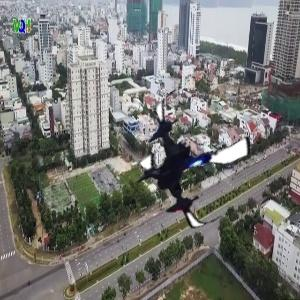drone: (122, 87, 265, 230)
